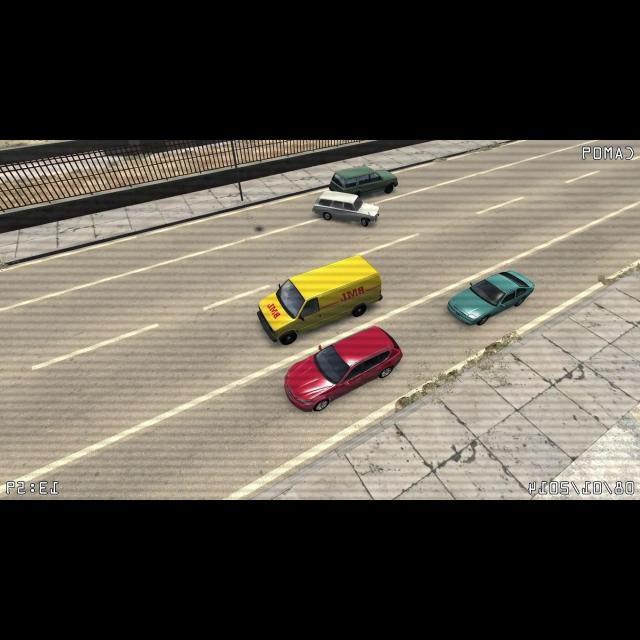accident: (311, 163, 401, 227)
